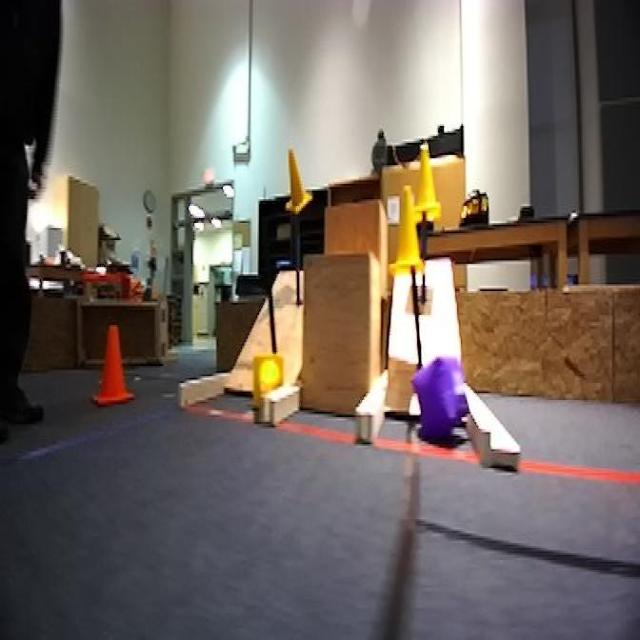frc_cone: (392, 186, 428, 276), (410, 146, 442, 222), (251, 352, 284, 414), (284, 146, 312, 216)
frc_cube: (410, 351, 468, 439)
